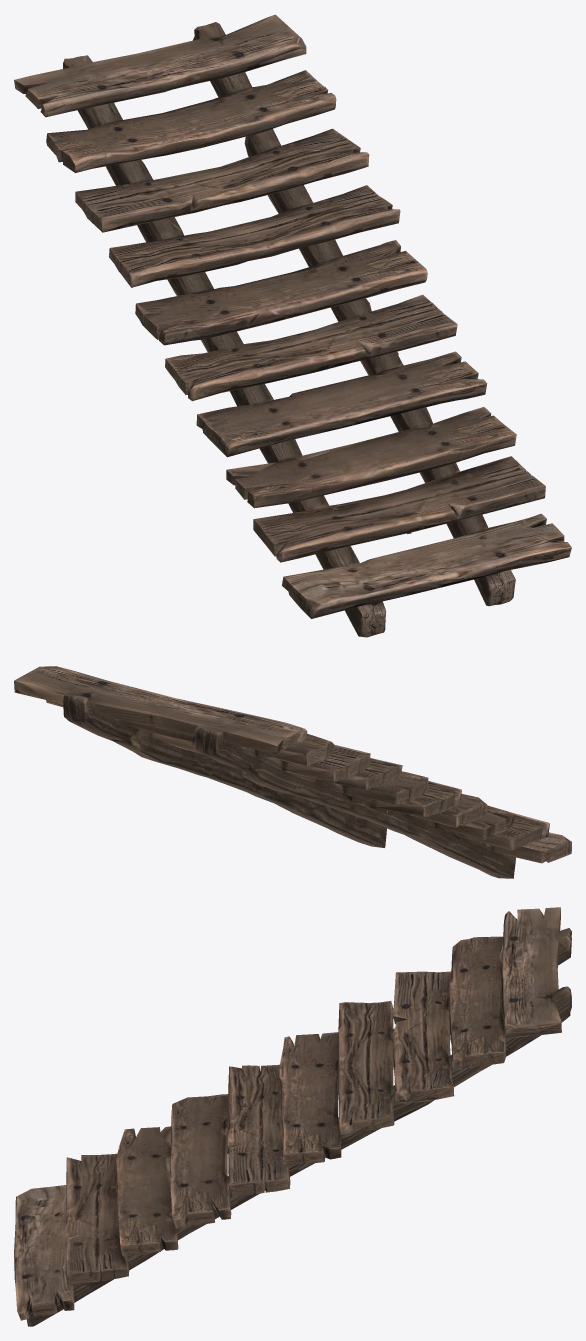
Rendered from obj_wooden_stairs.glb.
3 views of the same model, one above another, from view 1: azimuth 30°, elevation 25°; view 2: azimuth 150°, elevation 25°; view 3: azimuth 270°, elevation 25° (orthographic). The views are drawn at different scales.
Visible parts, largest first — view 1: Mesh_0; view 2: Mesh_0; view 3: Mesh_0.
Boxes of the visible parts, <box> form: Mesh_0: <box>14,14,571,637</box>; Mesh_0: <box>14,666,571,878</box>; Mesh_0: <box>14,907,571,1326</box>.
Size of the model in its own units: 0.9707 by 1.26 by 1.9.
Materials: 1 (1 with a texture image).
